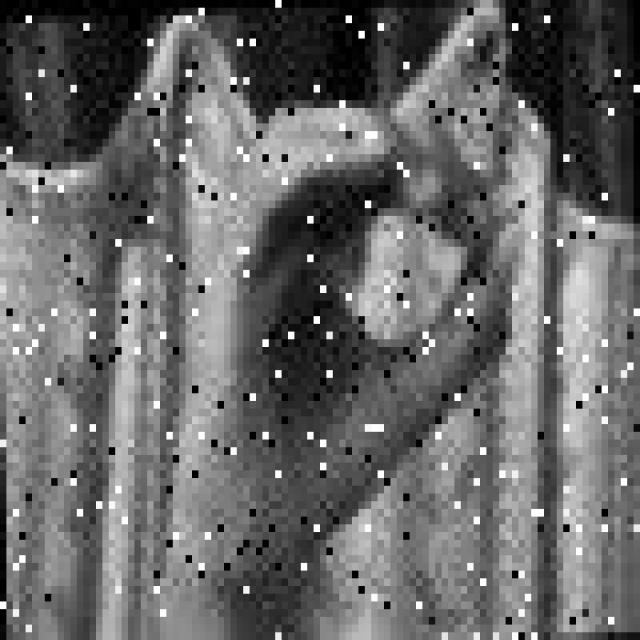O: (166, 66, 532, 528)
